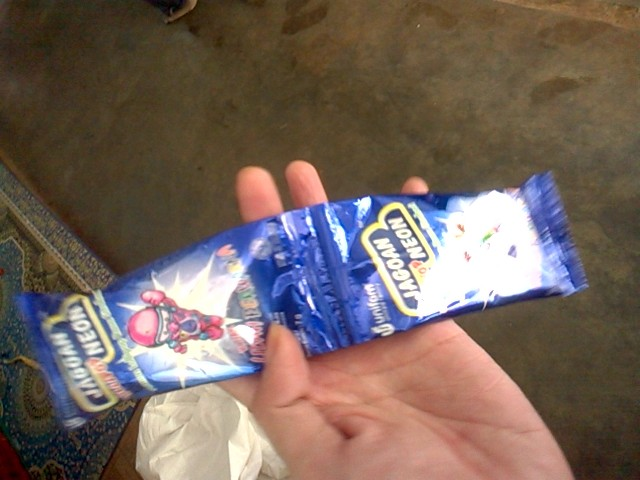jagoan neon: (19, 212, 340, 433), (309, 171, 591, 351)
